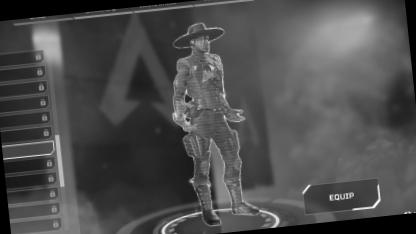Target: (162, 17, 251, 193)
